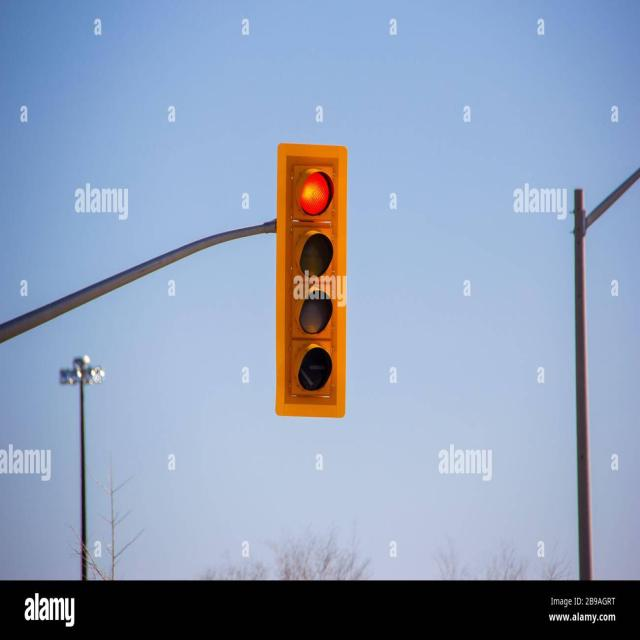red: (296, 158, 339, 224)
